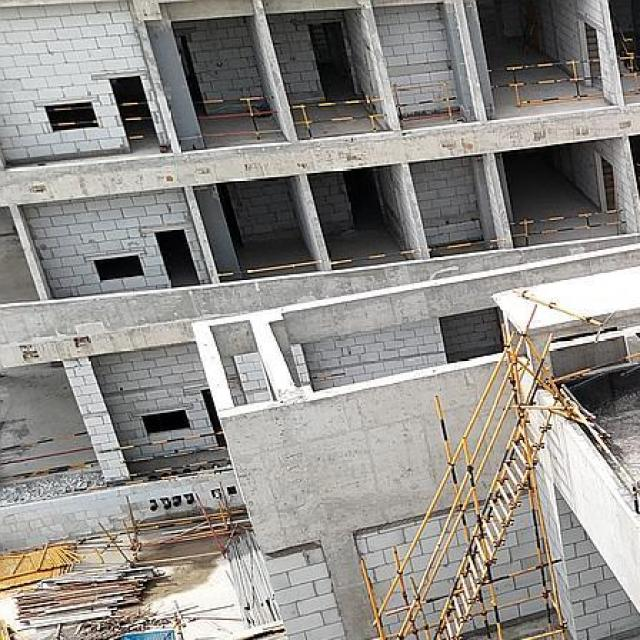Guardrail: (557, 388, 640, 515), (97, 430, 232, 479), (486, 58, 604, 108), (509, 208, 626, 246), (291, 93, 386, 138), (194, 96, 282, 140), (391, 80, 462, 130), (0, 429, 94, 466), (217, 259, 322, 278), (329, 249, 415, 265), (118, 101, 152, 140), (46, 105, 97, 126), (427, 238, 499, 252), (617, 56, 640, 97)
